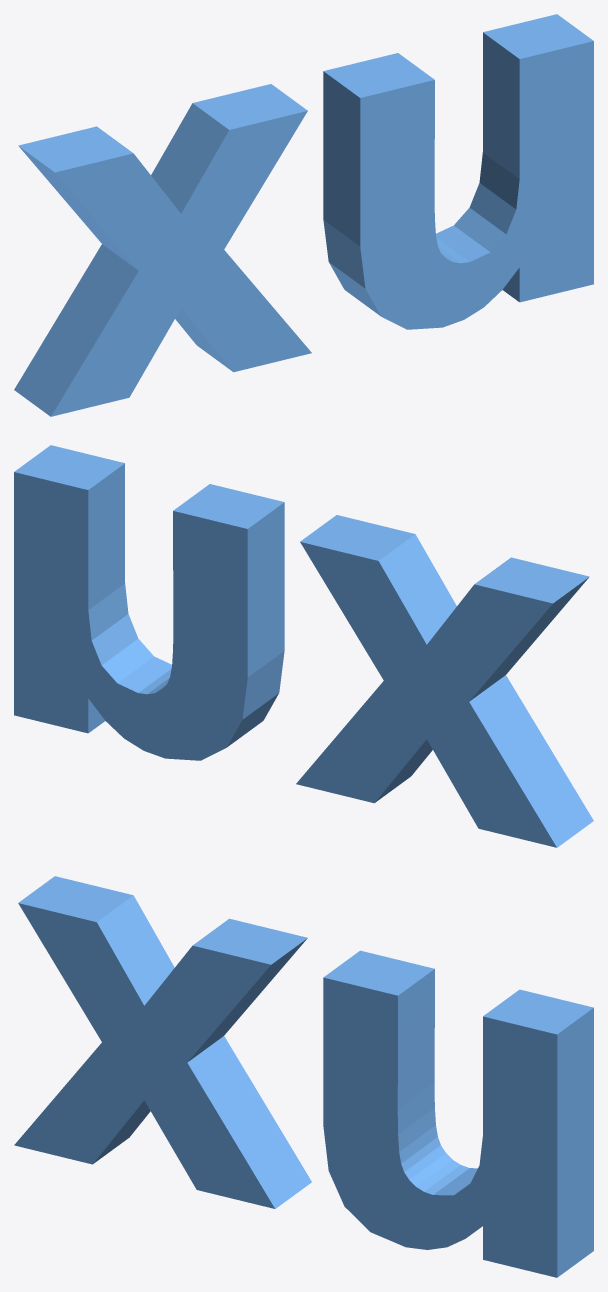
Rendered from suku_kecil_xu.glb.
3 views of the same model, one above another, from view 1: azimuth 30°, elevation 25°; view 2: azimuth 150°, elevation 25°; view 3: azimuth 330°, elevation 25° (orthographic).
Parts seen in each view (by area): view 1: geometry_0; view 2: geometry_0; view 3: geometry_0.
Boxes of the visible parts, box(x1,y1,x2,y2) form: geometry_0: box(14, 14, 593, 416); geometry_0: box(14, 445, 593, 847); geometry_0: box(14, 876, 593, 1277).
Size of the model in its own units: 12.77 by 5.61 by 1.5.
